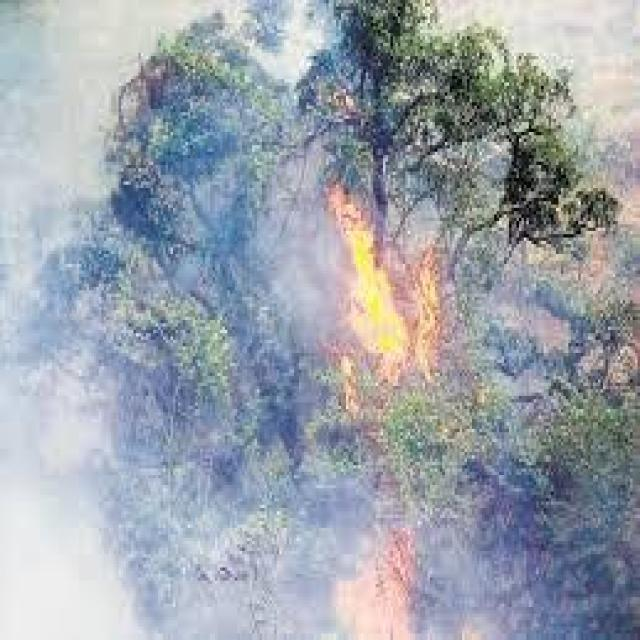Fire: (321, 172, 447, 406), (321, 505, 432, 640)
Smoke: (0, 0, 319, 323), (0, 330, 331, 640)
